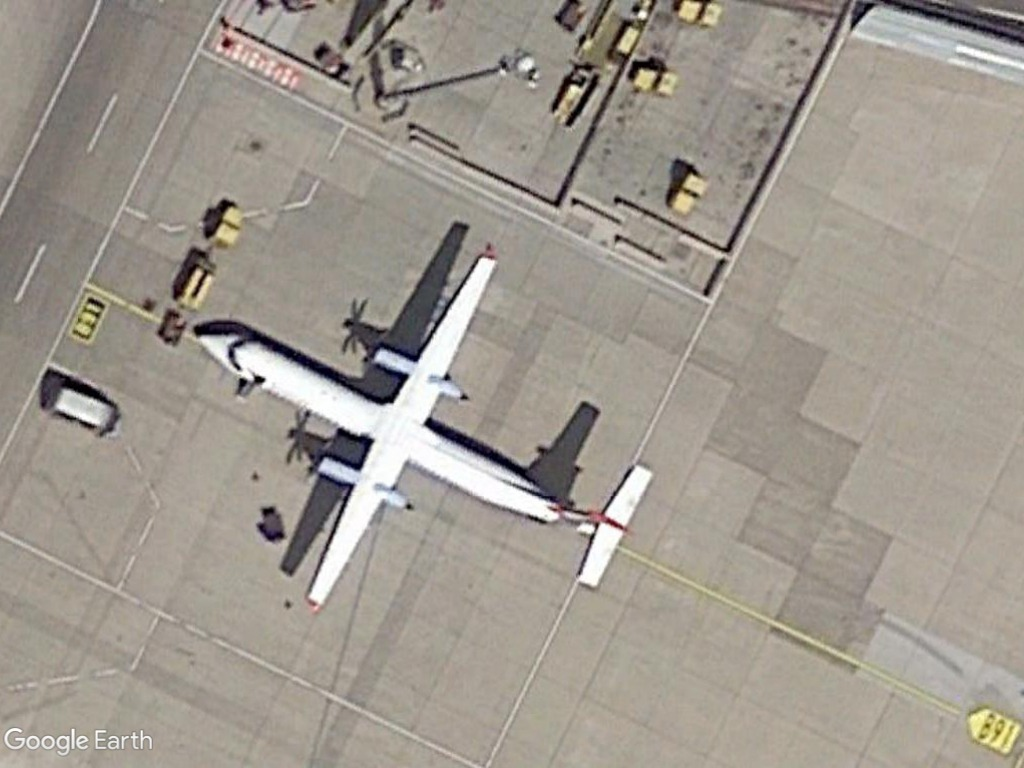propeller: (189, 248, 660, 619)
van: (45, 383, 127, 439)
